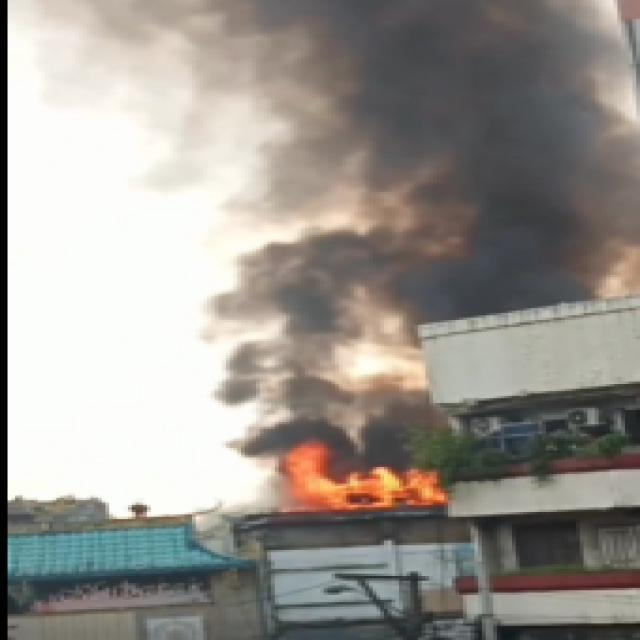Fire: (272, 444, 444, 509)
Smoke: (226, 0, 640, 340), (231, 368, 449, 482)
